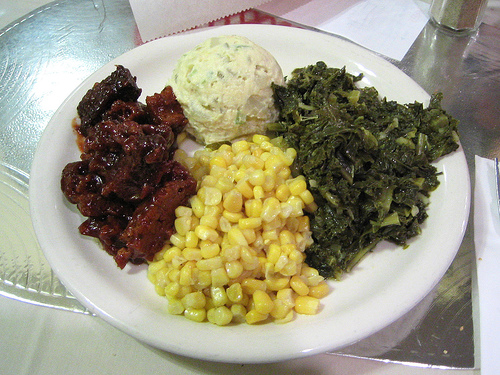corn: (148, 131, 332, 331)
